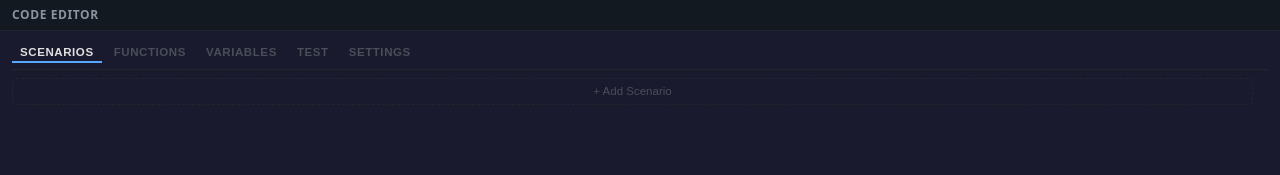
variable type handling › should render text input for numeric type variables
What coordinates should you click on to do the following:
click the button "Variables"
I would click on:
 (241, 53)
Its box is [198,43,285,63].
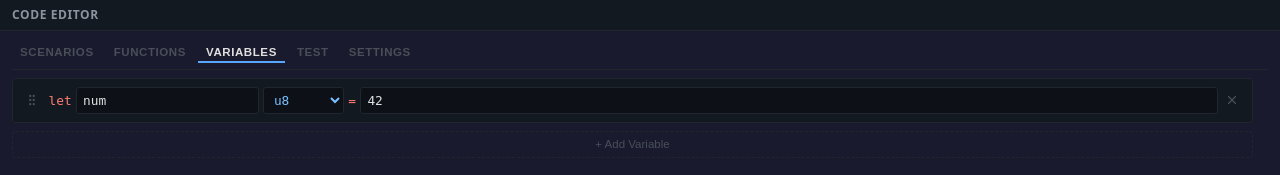
Expected: the 2nd field is shown, [360,87,1218,114]
